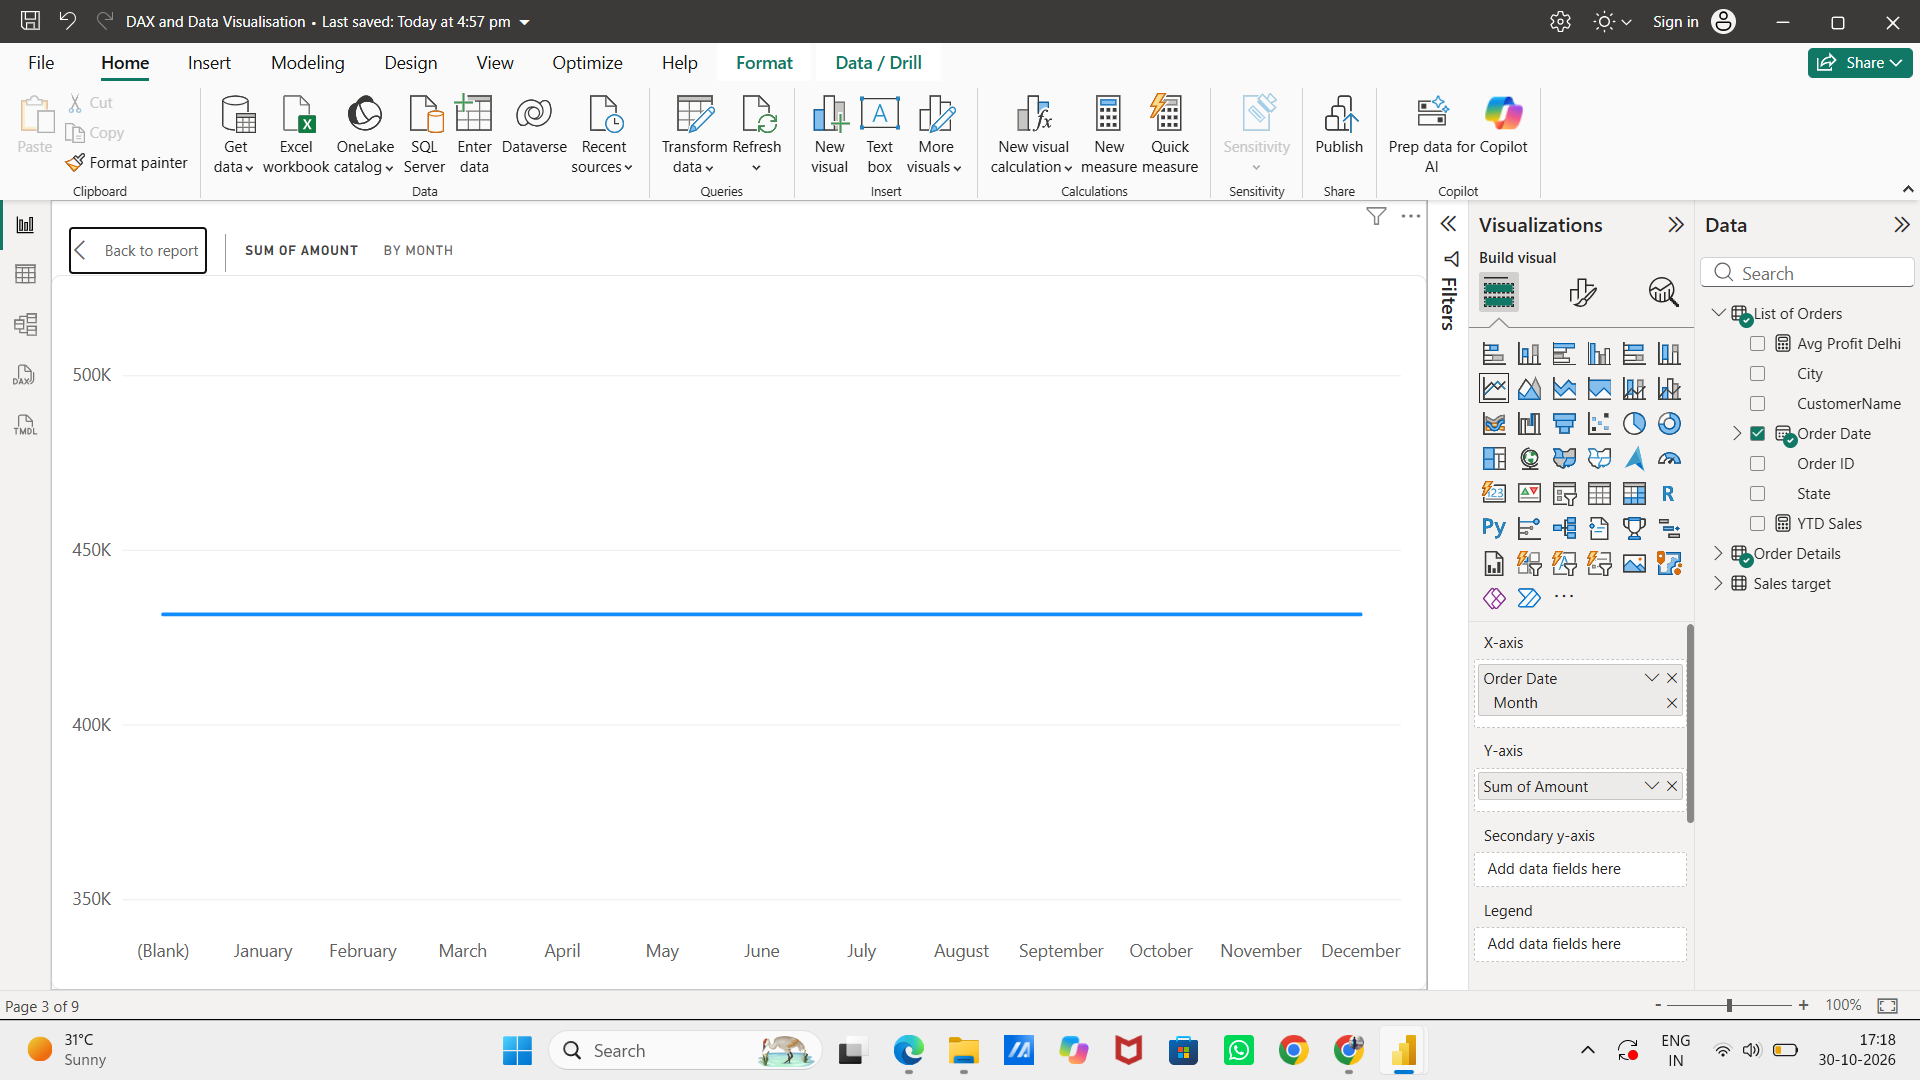

What the dashboard file says about the page in this screenshot:
{"tool":"powerbi","page":{"name":"Line chart","canvas":[1920,1080],"ordinal":2},"visuals":[{"type":"lineChart","fields":{"Category":["List of Orders.Order Date.Variation.Date Hierarchy.Month"],"Y":["Sum(Order Details.Amount)"]},"box":[10,0,280,280],"z":0}]}

Visuals, with their boxes on the page's 1920x1080 design canvas (x1, y1, x2, y2). These are canvas units, not pixel positions in the 1920x1080 screenshot, which may show the page scaled, cropped or inside an application window:
lineChart - List of Orders.Order Date.Variation.Date Hierarchy.Month x Sum(Order Details.Amount): (10, 0, 290, 280)
